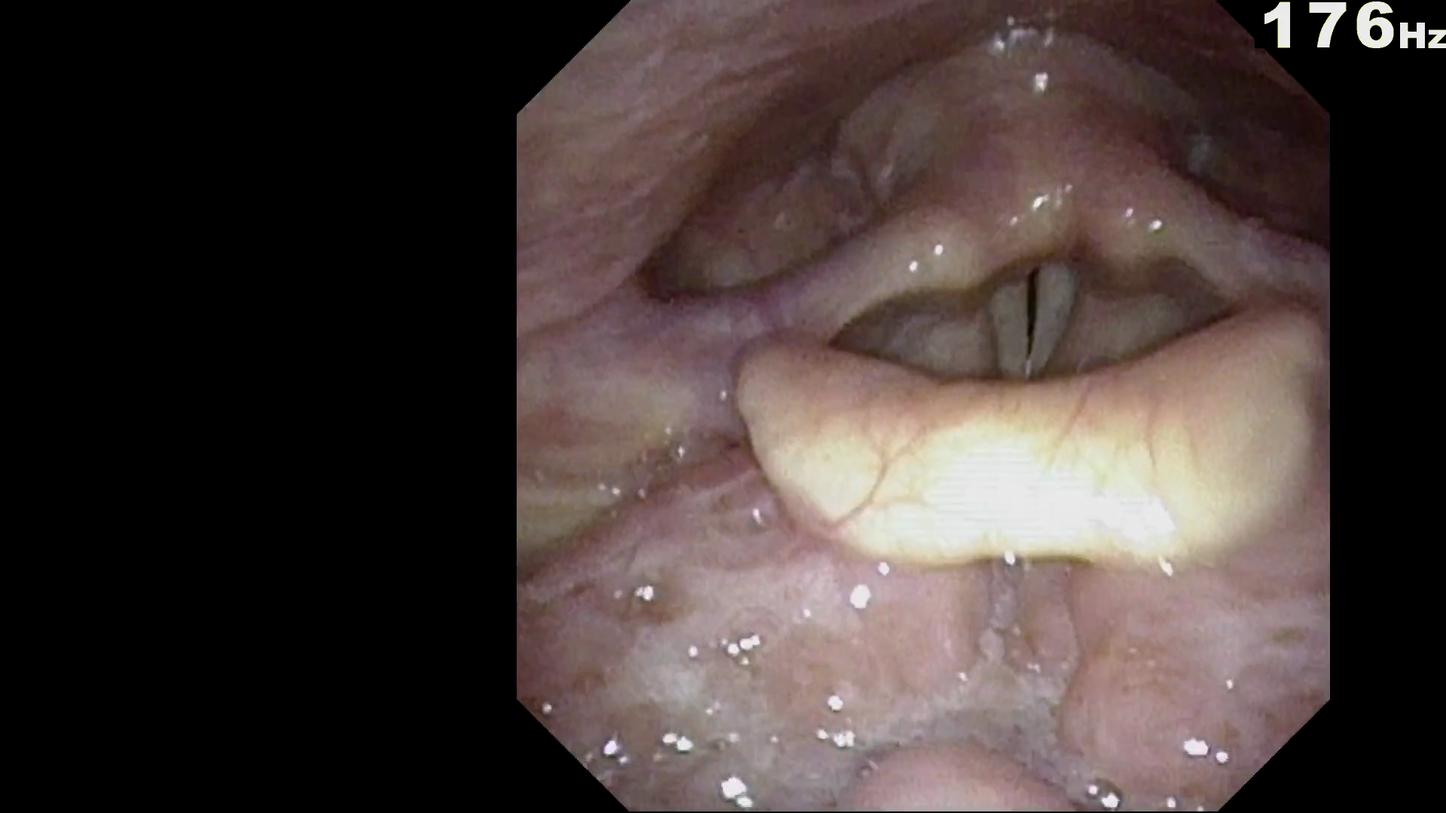epiglottis: (735, 266, 1319, 545)
trachea: (970, 229, 1116, 383)
